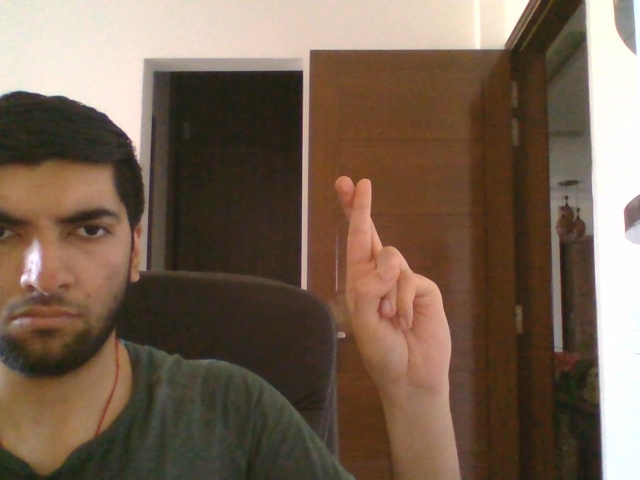LetterR: (332, 174, 458, 394)
